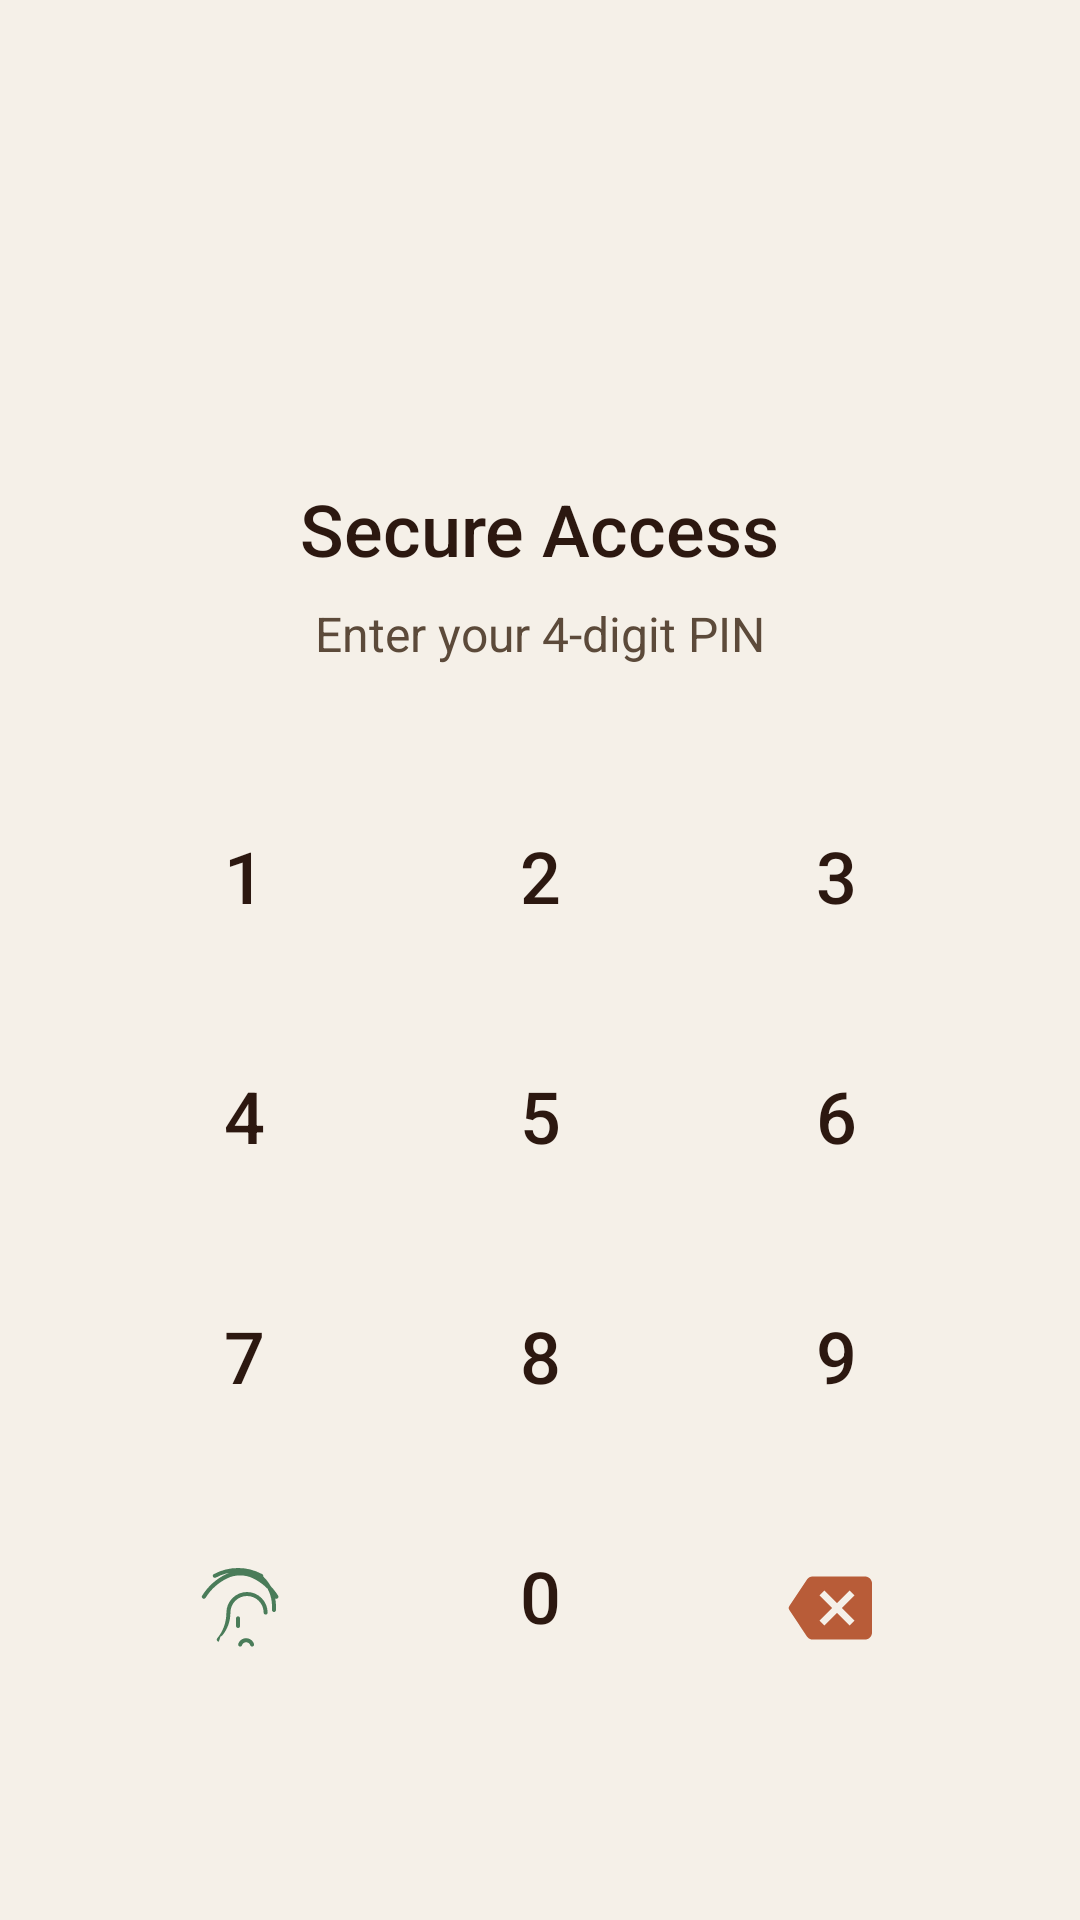

Icons on this 1080*1920 Android screen, each with its box as (x1, y1, x2, y2):
backspace: (788, 1576, 872, 1640)
fingerprint: (201, 1568, 279, 1647)
